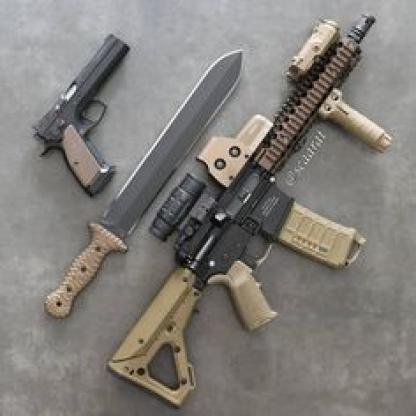Gun: (105, 9, 394, 409)
Knife: (43, 48, 245, 320)
Pistol: (30, 32, 139, 199)
